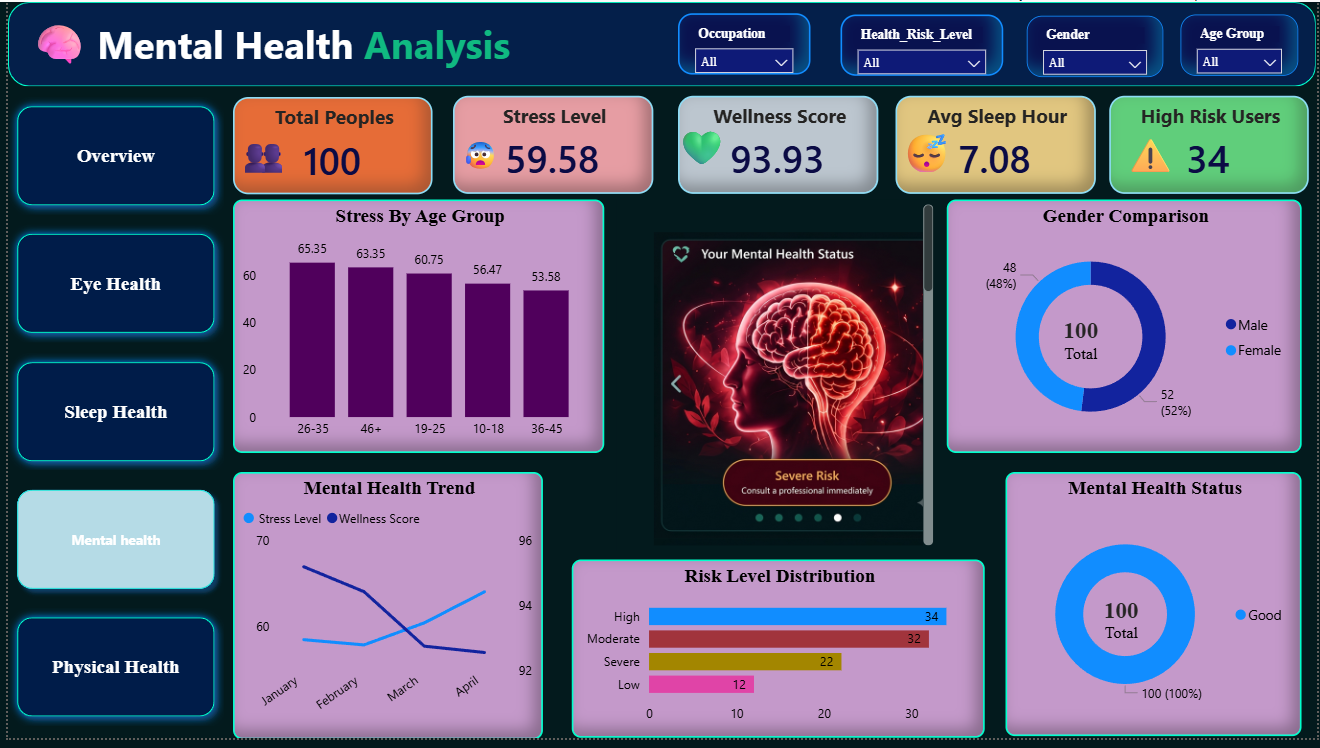

Layout of this report page (visuals, bound fields, positions):
{"tool":"powerbi","page":{"name":"Mental health","canvas":[1280,720],"ordinal":3},"visuals":[{"type":"shape","box":[0,0,1279.6,82.7],"z":0},{"type":"textbox","box":[0,11.2,1262.2,62.2],"z":1000},{"type":"pageNavigator","box":[0,92.9,211.2,616.3],"z":2000},{"type":"slicer","fields":{"Values":["Digital_Screen_Time_Health_Impact_100Rows.Occupation"]},"box":[655.1,11.2,129.6,60.2],"z":3000},{"type":"slicer","fields":{"Values":["Digital_Screen_Time_Health_Impact_100Rows.Health_Risk_Level"]},"box":[814.3,12.2,159.2,60.2],"z":4000},{"type":"slicer","fields":{"Values":["Digital_Screen_Time_Health_Impact_100Rows.Gender"]},"box":[996.9,13.3,133.7,60.2],"z":5000},{"type":"slicer","fields":{"Values":["Digital_Screen_Time_Health_Impact_100Rows.Age Group"]},"box":[1146.9,12.2,115.3,60.2],"z":6000},{"type":"lineChart","title":"Mental Health Trend","fields":{"Category":["Digital_Screen_Time_Health_Impact_100Rows.Date.Variation.Date Hierarchy.Month"],"Y":["Avg(Digital_Screen_Time_Health_Impact_100Rows.Stress_Level)"],"Y2":["Avg(Digital_Screen_Time_Health_Impact_100Rows.Wellness_Score)"]},"box":[220.4,459.2,303.1,261.2],"z":7000},{"type":"clusteredColumnChart","title":"Stress By Age Group","fields":{"Category":["Digital_Screen_Time_Health_Impact_100Rows.Age Group"],"Y":["Avg(Digital_Screen_Time_Health_Impact_100Rows.Stress_Level)"]},"box":[220.1,193.2,363.2,248.2],"z":8000},{"type":"clusteredBarChart","title":"Risk Level Distribution","fields":{"Category":["Digital_Screen_Time_Health_Impact_100Rows.Health_Risk_Level"],"Y":["CountNonNull(Digital_Screen_Time_Health_Impact_100Rows.User_ID)"]},"box":[551,545.9,404.1,174.5],"z":9000},{"type":"cardVisual","title":"High Risk Users","fields":{"Data":["Sum(Digital_Screen_Time_Health_Impact_100Rows.High Risk Users)"]},"box":[1077.6,91.8,194.9,95.9],"z":10000,"group":"g7"},{"type":"cardVisual","title":"Total Peoples","fields":{"Data":["CountNonNull(Digital_Screen_Time_Health_Impact_100Rows.User_ID)"]},"box":[220.4,92.9,195,95],"z":10000,"group":"g3"},{"type":"donutChart","title":"Gender Comparison","fields":{"Category":["Digital_Screen_Time_Health_Impact_100Rows.Gender"],"Y":["CountNonNull(Digital_Screen_Time_Health_Impact_100Rows.User_ID)"]},"box":[918.3,193.2,347.3,248.2],"z":10000,"group":"g2"},{"type":"group","id":"g1","title":"Group 1","box":[975.5,459.2,289.8,258.2],"z":10000},{"type":"donutChart","title":"Mental Health Status","fields":{"Y":["CountNonNull(Digital_Screen_Time_Health_Impact_100Rows.User_ID)"],"Category":["Digital_Screen_Time_Health_Impact_100Rows.Mental Health Status"]},"box":[975.5,459.2,289.8,258.2],"z":10000,"group":"g1"},{"type":"cardVisual","title":"Avg Sleep Hour","fields":{"Data":["Avg(Digital_Screen_Time_Health_Impact_100Rows.Avg Sleep Hours)"]},"box":[868.4,91.8,195.9,95.9],"z":11000,"group":"g6"},{"type":"group","id":"g2","title":"Group 2","box":[918.3,193.2,347.3,248.2],"z":11000},{"type":"cardVisual","fields":{"Data":["Digital_Screen_Time_Health_Impact_100Rows.Total Risk Users"]},"box":[999.4,269.5,101.9,124.9],"z":11000,"group":"g2"},{"type":"textbox","box":[15.3,5.1,82.7,76.5],"z":12000},{"type":"cardVisual","title":"Stress Level","fields":{"Data":["Avg(Digital_Screen_Time_Health_Impact_100Rows.Stress_Level)"]},"box":[435.7,91.8,195.9,95.9],"z":12000,"group":"g4"},{"type":"cardVisual","fields":{"Data":["Digital_Screen_Time_Health_Impact_100Rows.Total Risk Users"]},"box":[1040.2,536.5,98,136.6],"z":12000,"group":"g1"},{"type":"cardVisual","title":"Wellness Score","fields":{"Data":["Avg(Digital_Screen_Time_Health_Impact_100Rows.Wellness_Score)"]},"box":[655.1,91.8,195.9,95.9],"z":13000,"group":"g5"},{"type":"group","id":"g3","title":"Group 3","box":[220.4,92.9,195,100],"z":13000},{"type":"group","id":"g4","title":"Group 4","box":[435.7,91.8,195.9,95.9],"z":14000},{"type":"group","id":"g5","title":"Group 5","box":[648,91.8,203.1,95.9],"z":15000},{"type":"group","id":"g6","title":"Group 6","box":[868.4,91.8,195.9,95.9],"z":16000},{"type":"textbox","box":[439.8,126.5,72.4,61.2],"z":16000,"group":"g4"},{"type":"group","id":"g7","title":"Group 7","box":[1077.6,91.8,194.9,95.9],"z":17000},{"type":"textbox","box":[648,109.1,58.2,61.2],"z":17000,"group":"g5"},{"type":"textbox","box":[220.4,116.4,81.6,76.5],"z":17000,"group":"g3"},{"type":"textbox","box":[868.4,116.3,78.6,62.2],"z":18000,"group":"g6"},{"type":"tableEx","fields":{"Values":["Mental_Health_Images.ImageUrl"]},"box":[595.5,193.2,314.3,343.6],"z":18000},{"type":"textbox","box":[1086.8,116.3,60.2,60.2],"z":19000,"group":"g7"}]}

Visuals, with their boxes in screenshot pixels (x1, y1, x2, y2), scaled from the page's 1280x720 canvas onto the 1320x748 screenshot:
shape: left=0, top=0, right=1319, bottom=86
textbox: left=0, top=12, right=1302, bottom=76
pageNavigator: left=0, top=97, right=218, bottom=737
slicer - Digital_Screen_Time_Health_Impact_100Rows.Occupation: left=676, top=12, right=809, bottom=74
slicer - Digital_Screen_Time_Health_Impact_100Rows.Health_Risk_Level: left=840, top=13, right=1004, bottom=75
slicer - Digital_Screen_Time_Health_Impact_100Rows.Gender: left=1028, top=14, right=1166, bottom=76
slicer - Digital_Screen_Time_Health_Impact_100Rows.Age Group: left=1183, top=13, right=1302, bottom=75
"Mental Health Trend" lineChart: left=227, top=477, right=540, bottom=747
"Stress By Age Group" clusteredColumnChart: left=227, top=201, right=602, bottom=459
"Risk Level Distribution" clusteredBarChart: left=568, top=567, right=985, bottom=747
"High Risk Users" cardVisual: left=1111, top=95, right=1312, bottom=195
"Total Peoples" cardVisual: left=227, top=97, right=428, bottom=195
"Gender Comparison" donutChart: left=947, top=201, right=1305, bottom=459
"Group 1" group: left=1006, top=477, right=1305, bottom=745
"Mental Health Status" donutChart: left=1006, top=477, right=1305, bottom=745
"Avg Sleep Hour" cardVisual: left=896, top=95, right=1098, bottom=195
"Group 2" group: left=947, top=201, right=1305, bottom=459
cardVisual - Digital_Screen_Time_Health_Impact_100Rows.Total Risk Users: left=1031, top=280, right=1136, bottom=410
textbox: left=16, top=5, right=101, bottom=85
"Stress Level" cardVisual: left=449, top=95, right=651, bottom=195
cardVisual - Digital_Screen_Time_Health_Impact_100Rows.Total Risk Users: left=1073, top=557, right=1174, bottom=699
"Wellness Score" cardVisual: left=676, top=95, right=878, bottom=195
"Group 3" group: left=227, top=97, right=428, bottom=200
"Group 4" group: left=449, top=95, right=651, bottom=195
"Group 5" group: left=668, top=95, right=878, bottom=195
"Group 6" group: left=896, top=95, right=1098, bottom=195
textbox: left=454, top=131, right=528, bottom=195
"Group 7" group: left=1111, top=95, right=1312, bottom=195
textbox: left=668, top=113, right=728, bottom=177
textbox: left=227, top=121, right=311, bottom=200
textbox: left=896, top=121, right=977, bottom=185
tableEx - Mental_Health_Images.ImageUrl: left=614, top=201, right=938, bottom=558
textbox: left=1121, top=121, right=1183, bottom=183
